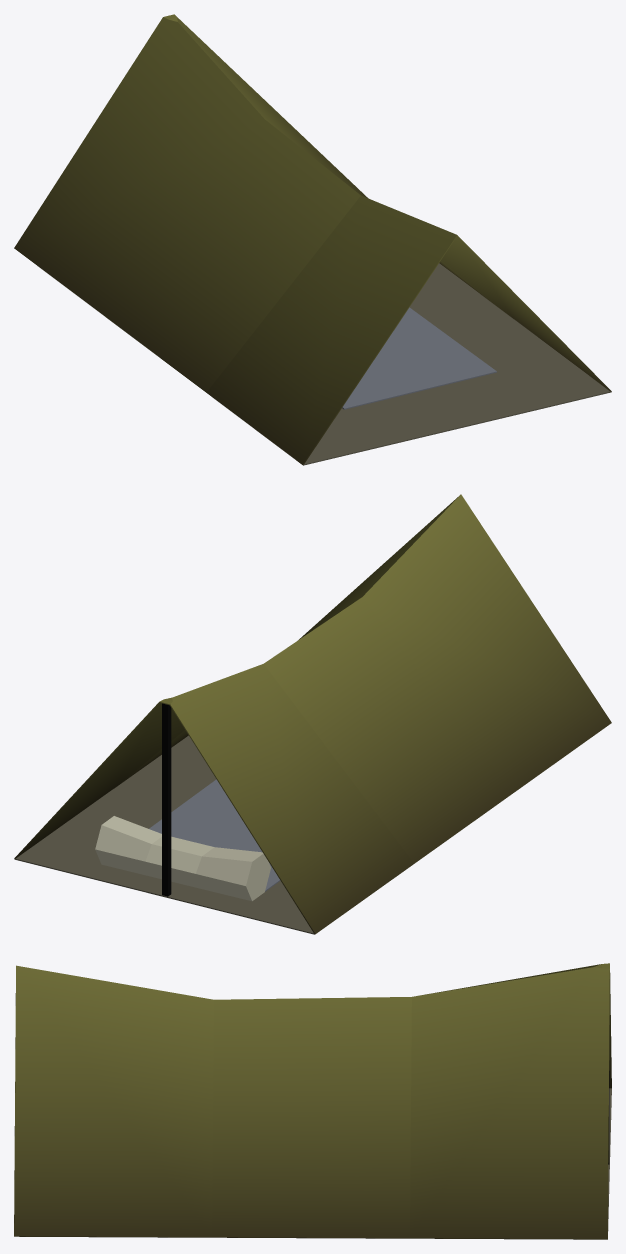
The model's file is GEO_Tent.glb.
The picture shows the model from 3 angles, top to bottom: view 1: azimuth 30°, elevation 25°; view 2: azimuth 150°, elevation 25°; view 3: azimuth 270°, elevation 25°; orthographic projection. The views are drawn at different scales.
Visible parts, largest first — view 1: GEO.Tent; view 2: GEO.Tent; view 3: GEO.Tent.
Part boxes in pixels (x1,y1,x2,y2): GEO.Tent: (14, 14, 611, 465); GEO.Tent: (14, 494, 611, 934); GEO.Tent: (14, 963, 611, 1239).
Bounding box in the file's own units: 1.49 × 0.8919 × 2.43.
